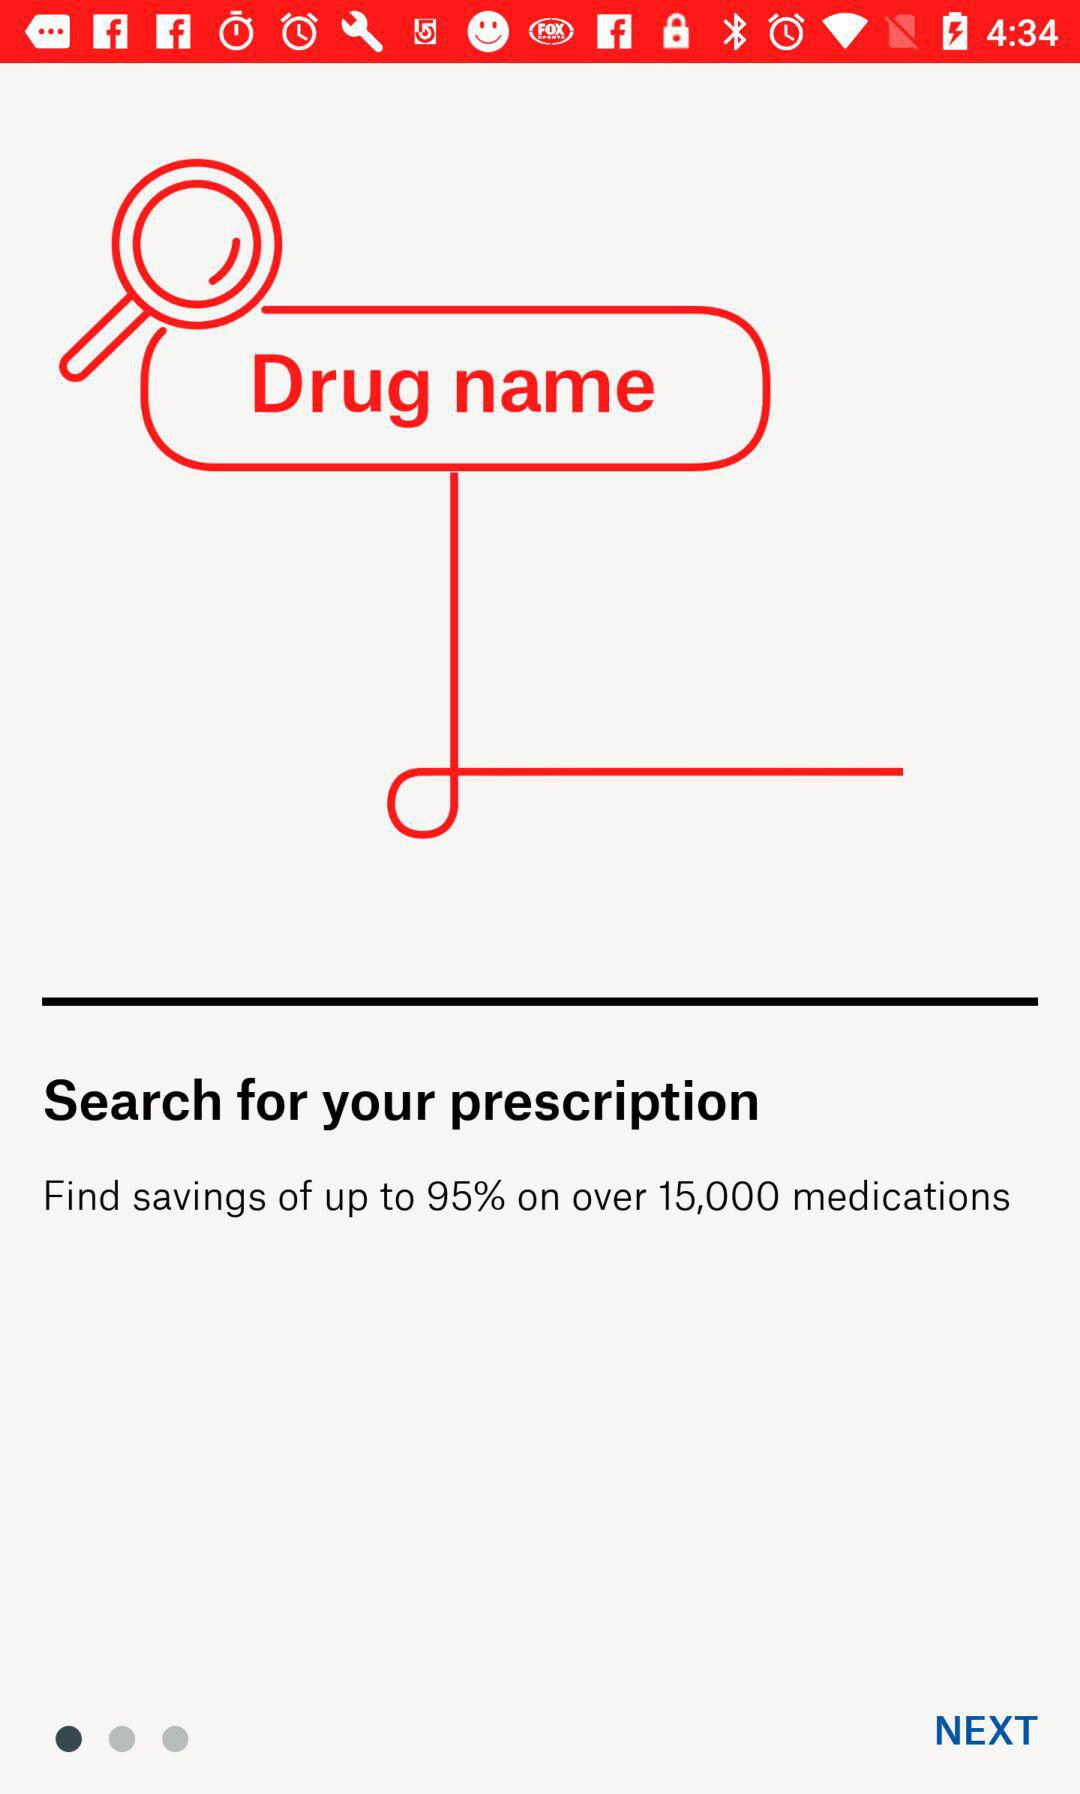Image: (58, 158, 904, 841)
PageIndicator: (55, 1724, 192, 1756)
Text: (44, 1178, 1010, 1219), (44, 1076, 758, 1132), (937, 1715, 1039, 1747)
UpperTaskBar: (1, 1, 1080, 64)
